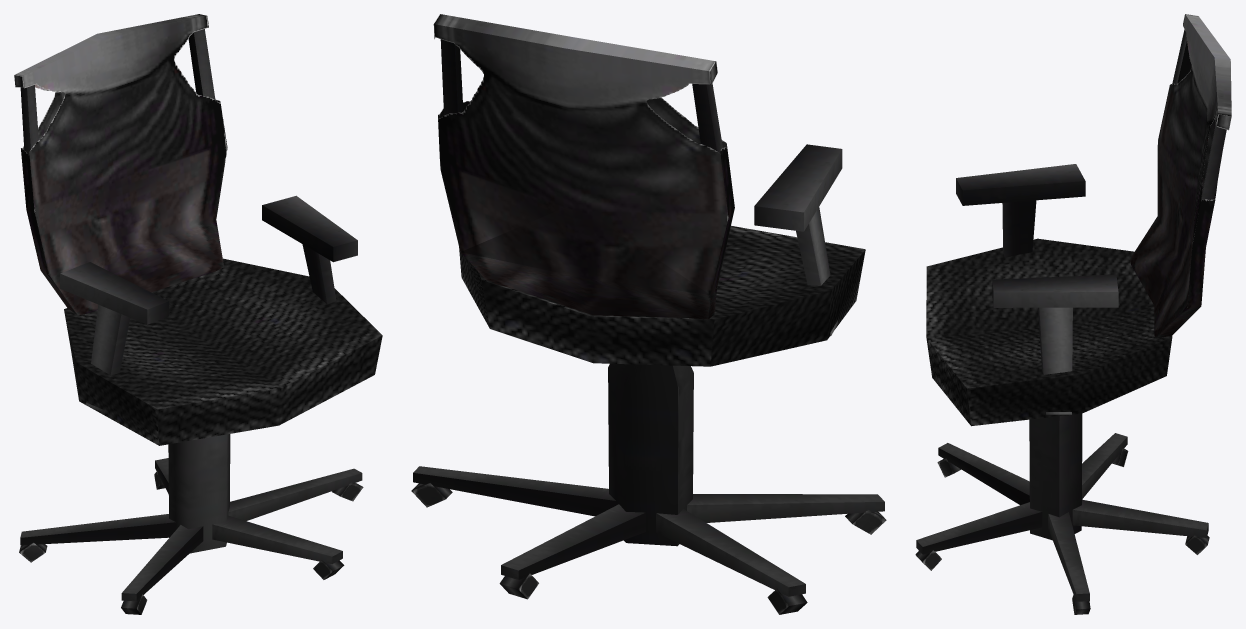
File: Silla.fbx
3 views of the same model, side by side, from view 1: azimuth 30°, elevation 25°; view 2: azimuth 150°, elevation 25°; view 3: azimuth 270°, elevation 25° (orthographic). The views are drawn at different scales.
Parts seen in each view (by area): view 1: Silla; view 2: Silla; view 3: Silla.
Part boxes in pixels (<box>): Silla: <box>14,14,382,614</box>; Silla: <box>411,14,886,614</box>; Silla: <box>915,14,1231,614</box>.
Size of the model in its own units: 1.03 by 1.39 by 0.8484.
1 material, 1 textured.
